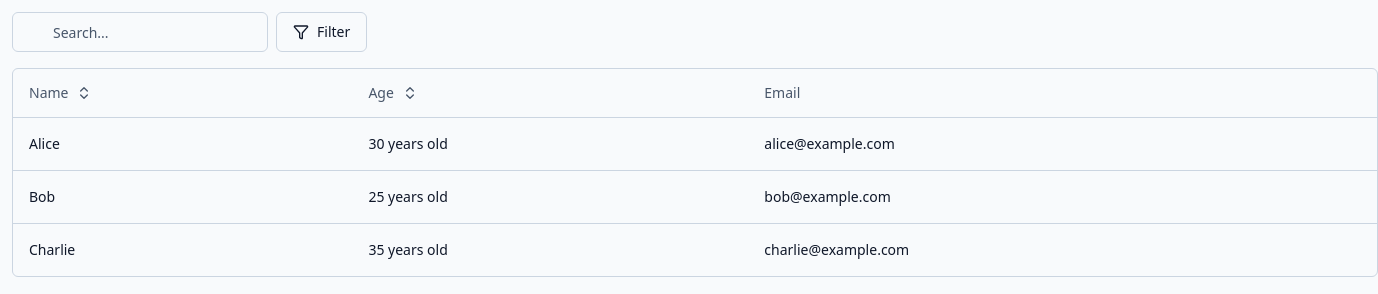
Table Components › DataTable › performs local filtering when not manual
Type "Alice" into the field with placeholder "Search..." at {"x": 140, "y": 32}, box [12,12,268,52]
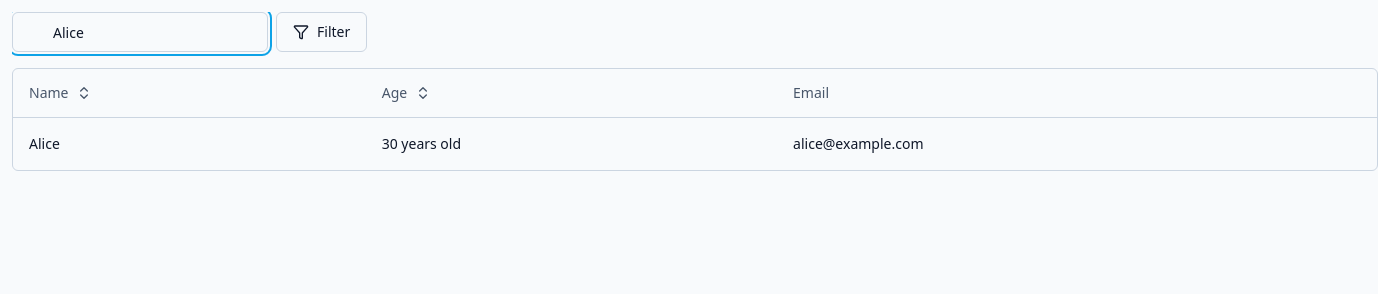
Expected: the text "Alice" is shown, [13,117,366,170]
Now the text "Bob" is gone
